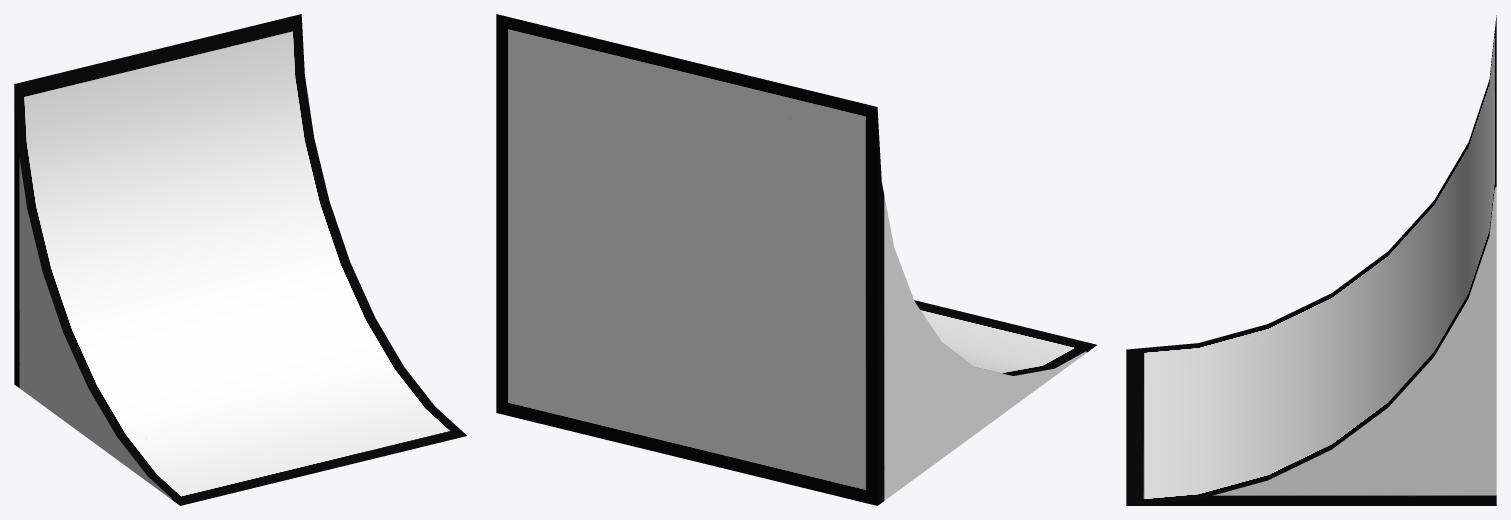
File: prism_concave.obj
The picture shows the model from 3 angles, left to right: view 1: azimuth 30°, elevation 25°; view 2: azimuth 150°, elevation 25°; view 3: azimuth 270°, elevation 25°; orthographic projection. The views are drawn at different scales.
Visible parts, largest first — view 1: Cube; view 2: Cube; view 3: Cube.
Part boxes in pixels (left/top/right/bottom): Cube: left=14, top=14, right=466, bottom=505; Cube: left=496, top=14, right=1096, bottom=505; Cube: left=1126, top=15, right=1496, bottom=505.
Bounding box in the file's own units: 1 × 1 × 1.
Materials: 1 (1 with a texture image).
